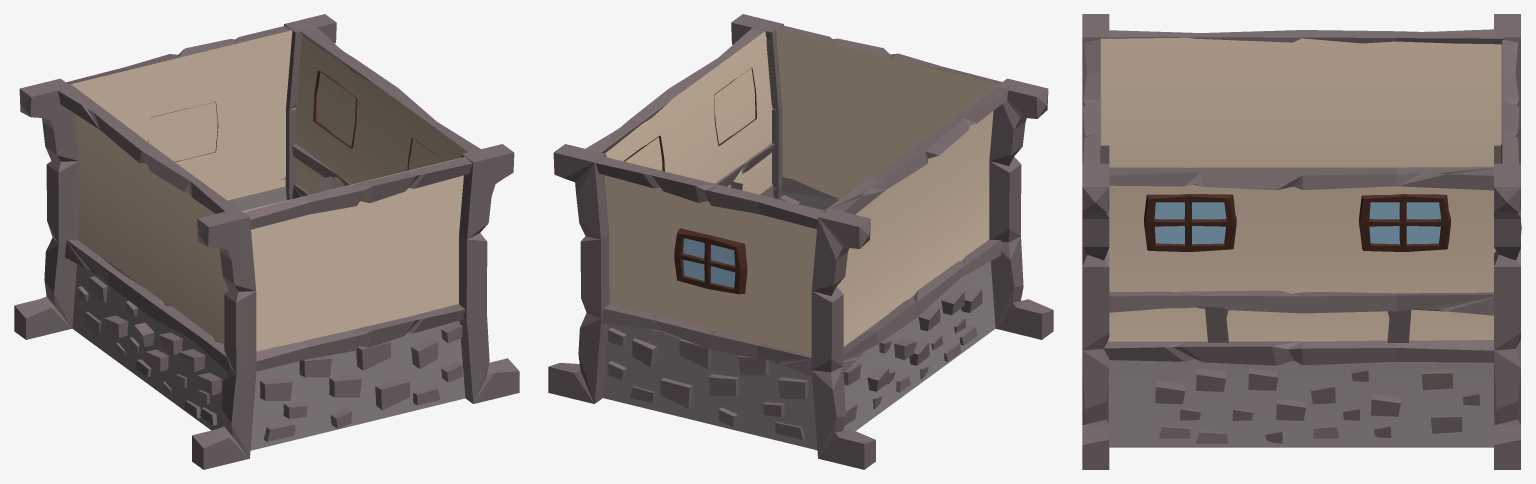
File: SM_L_R_Home_Base_Pillar.fbx
3 views of the same model, side by side, from view 1: azimuth 30°, elevation 25°; view 2: azimuth 150°, elevation 25°; view 3: azimuth 270°, elevation 25° (orthographic). The views are drawn at different scales.
Visible parts, largest first — view 1: SM_L_R_Home_Base_Pillar; view 2: SM_L_R_Home_Base_Pillar; view 3: SM_L_R_Home_Base_Pillar.
Boxes of the visible parts, <box> form: SM_L_R_Home_Base_Pillar: <box>14,14,519,469</box>; SM_L_R_Home_Base_Pillar: <box>548,14,1053,469</box>; SM_L_R_Home_Base_Pillar: <box>1082,14,1521,469</box>.
Size of the model in its own units: 5.84 by 4.28 by 6.07.
Materials: 1 (1 with a texture image).
